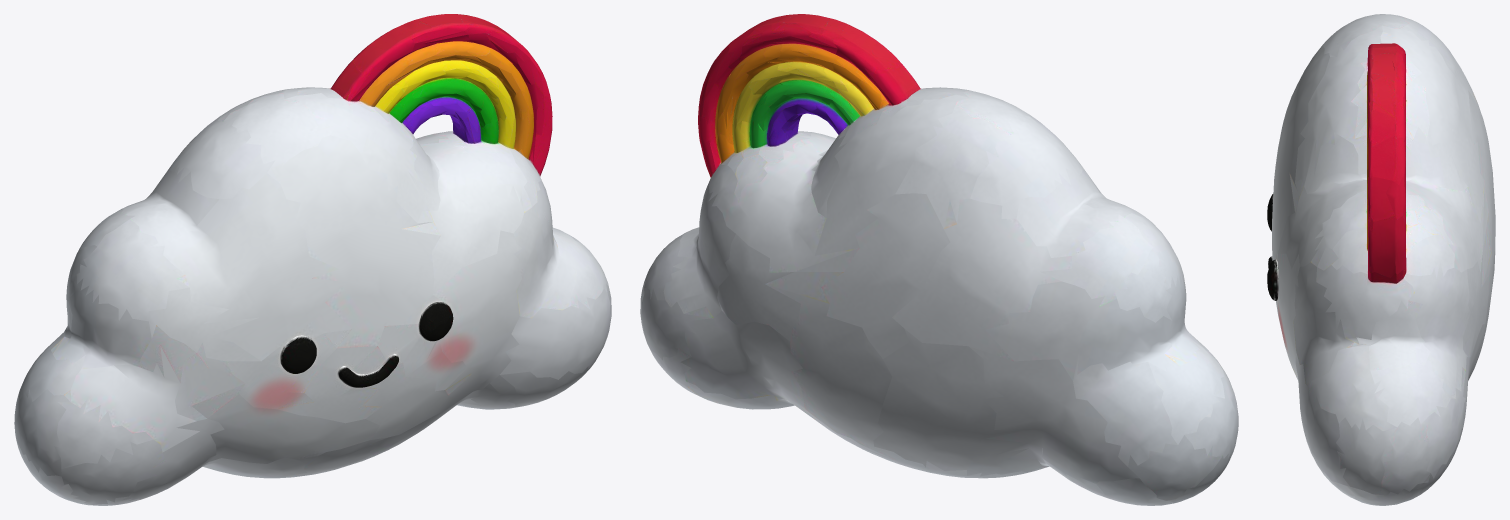
The model's file is res_pus.fbx.
3 views of the same model, side by side, from view 1: azimuth 30°, elevation 25°; view 2: azimuth 150°, elevation 25°; view 3: azimuth 270°, elevation 25° (orthographic).
Parts seen in each view (by area): view 1: Mesh_0; view 2: Mesh_0; view 3: Mesh_0.
Boxes of the visible parts, box(x1,y1,x2,y2) form: Mesh_0: box(14, 14, 611, 505); Mesh_0: box(640, 14, 1238, 505); Mesh_0: box(1267, 14, 1495, 505).
Bounding box in the file's own units: 1.9 × 1.3 × 0.6507.
1 material, 1 textured.
